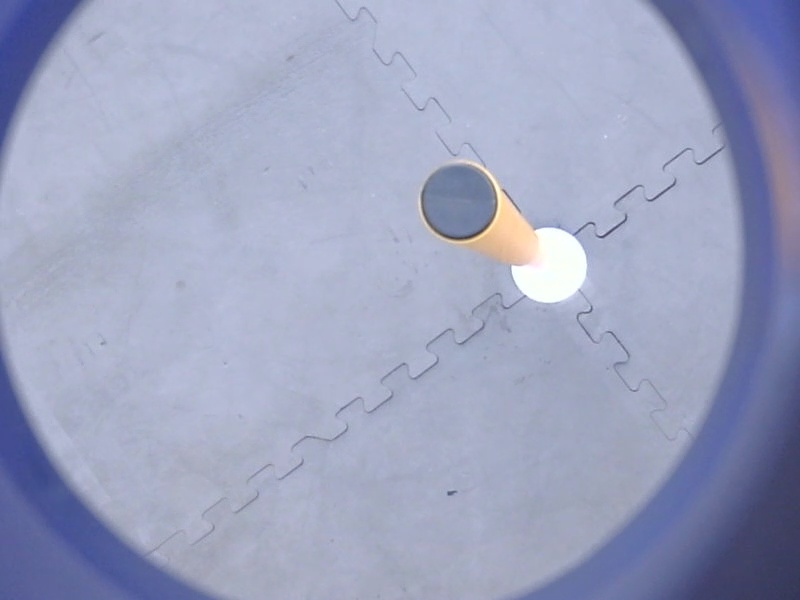tip: (413, 157, 505, 249)
